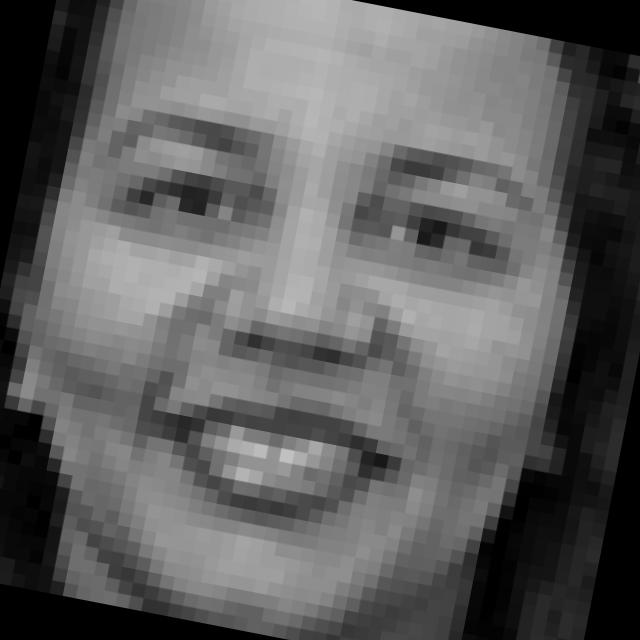happy: (33, 82, 554, 580)
